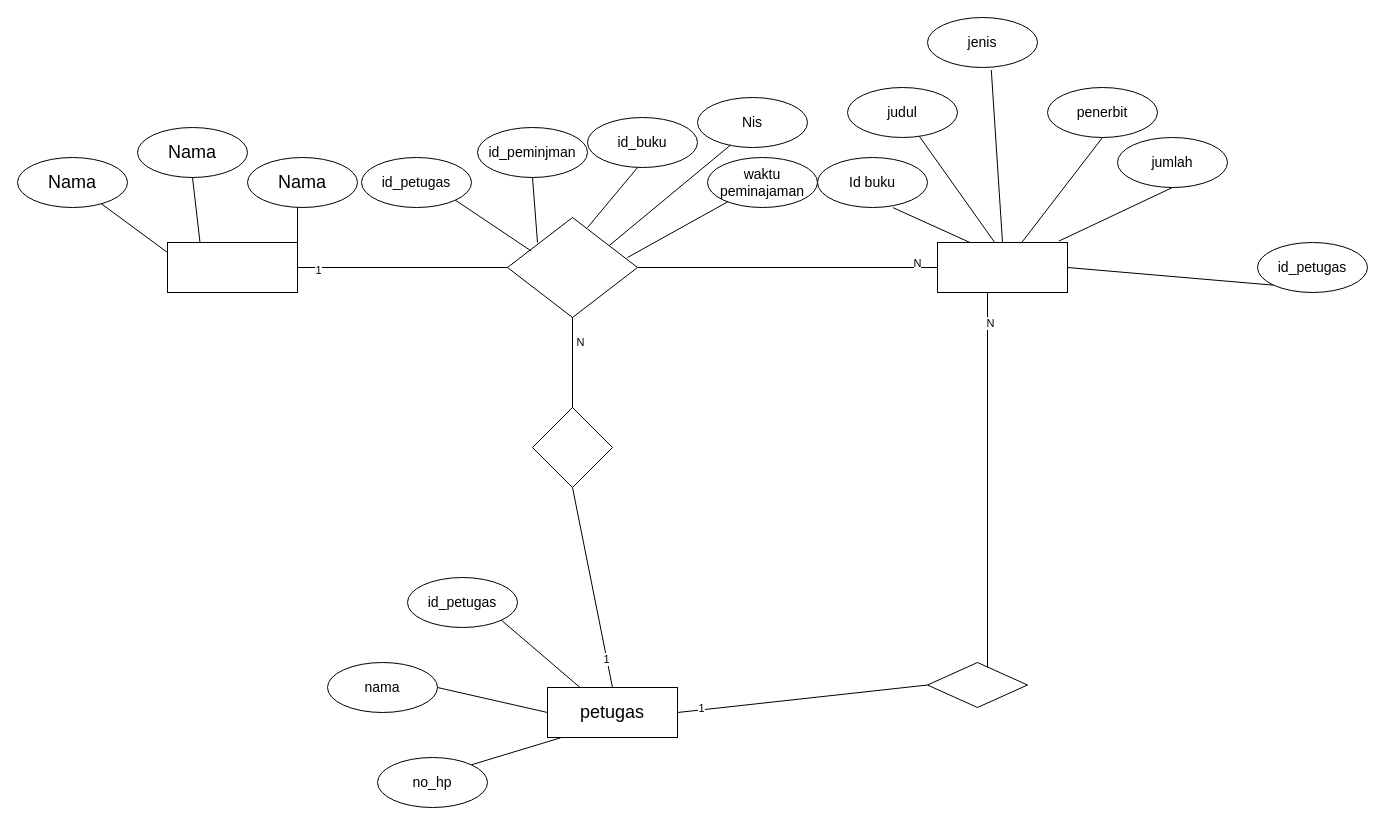
Some shapes in this 1385 by 825 pixel diagram are drawn without their labels. Each missing label, with the box of its shape:
Buku: (936, 242, 1068, 292)
Meminjam: (506, 216, 638, 318)
mengelola: (926, 662, 1028, 708)
mentujui: (532, 406, 612, 488)
Siswa: (166, 242, 298, 292)
